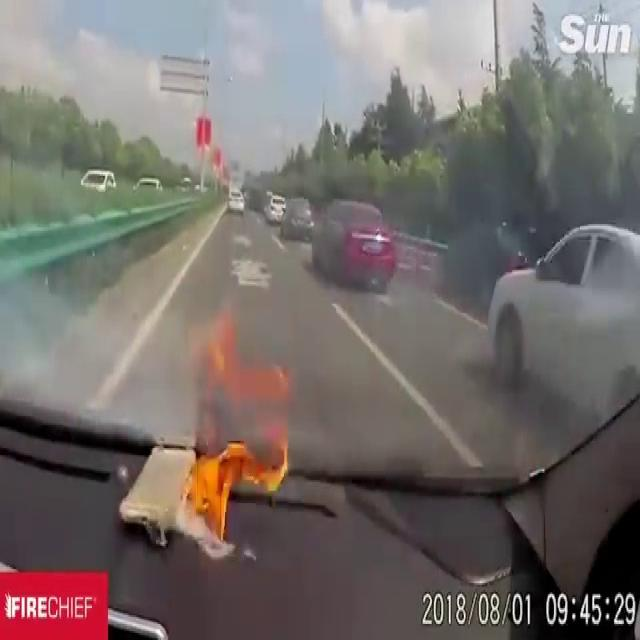fire: (187, 424, 299, 563)
